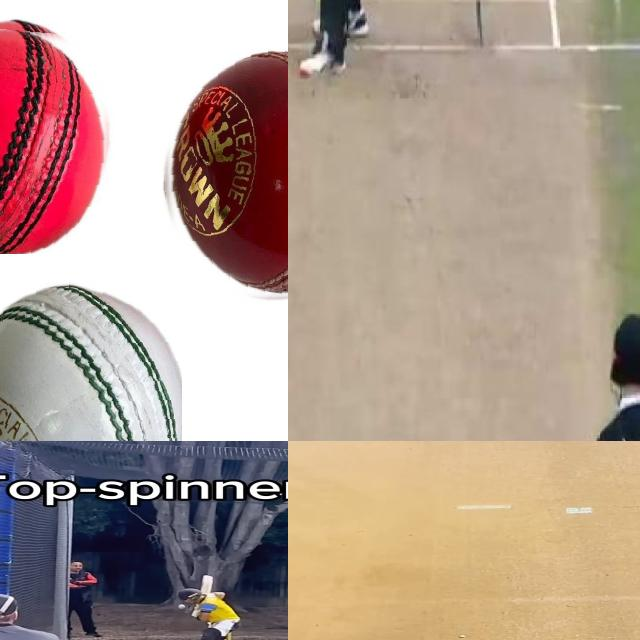Cricket ball: (157, 48, 288, 307), (0, 280, 182, 441), (0, 20, 113, 254), (178, 604, 186, 609)
